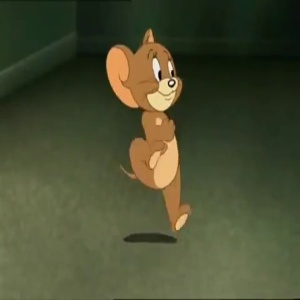Jerry: (102, 25, 189, 110)
